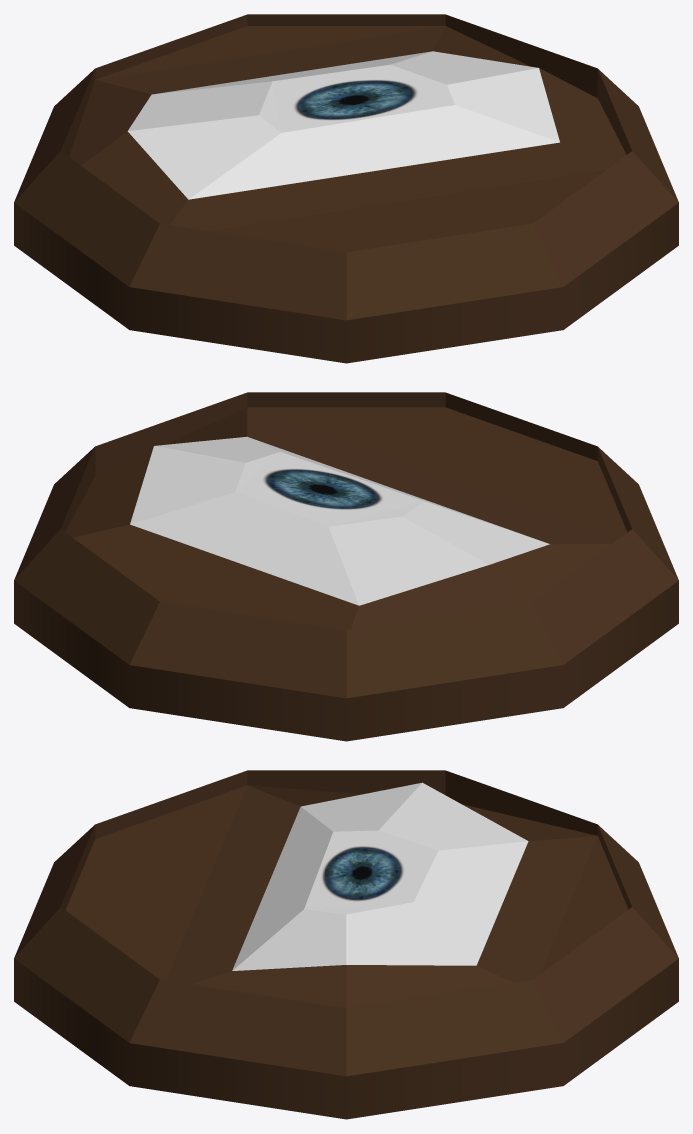
Rendered from Crater_Eye.FBX.
3 renders of one model, top to bottom at view 1: azimuth 30°, elevation 25°; view 2: azimuth 150°, elevation 25°; view 3: azimuth 270°, elevation 25°, orthographic.
Parts seen in each view (by area): view 1: Crater_Eye; view 2: Crater_Eye; view 3: Crater_Eye.
Part boxes in pixels (x1,y1,x2,y2): Crater_Eye: [14, 14, 678, 363]; Crater_Eye: [14, 392, 678, 741]; Crater_Eye: [14, 770, 678, 1119].
Bounding box in the file's own units: 32.23 × 6.12 × 32.73.
